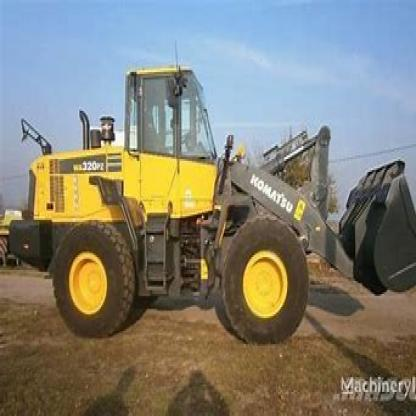bull_dozer/loader/grader: (5, 41, 415, 346)
